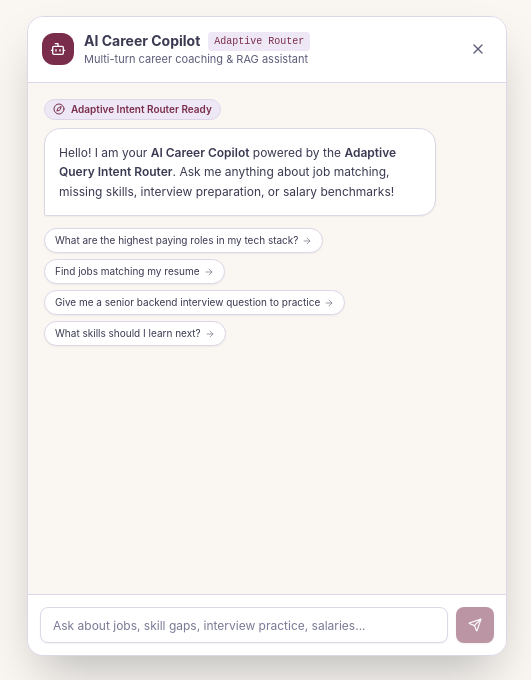
CopilotChatDrawer Component › renders collapsible execution trace panel and expands details on click
The width and height of the screenshot is (531, 680).
Type "Trace test query" into the field with placeholder "Ask about jobs, skill gaps, interview practice, salaries...".
click(244, 625); type("Trace test query")  # box [40,607,448,643]
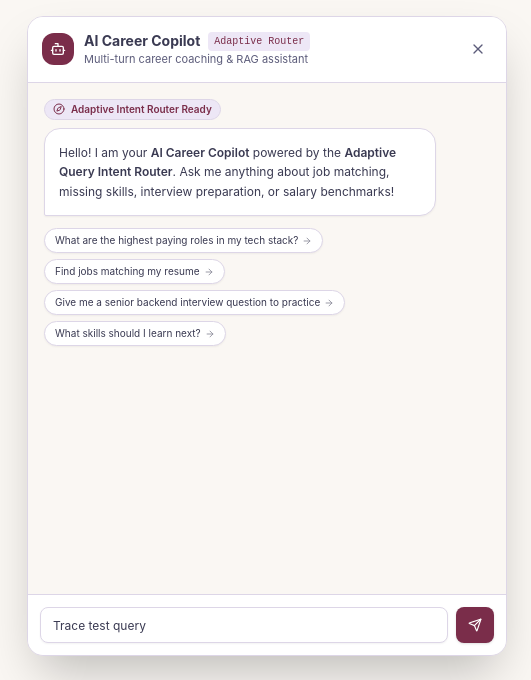
Submit the form with placeholder "ask about jobs", box [40,607,494,643]
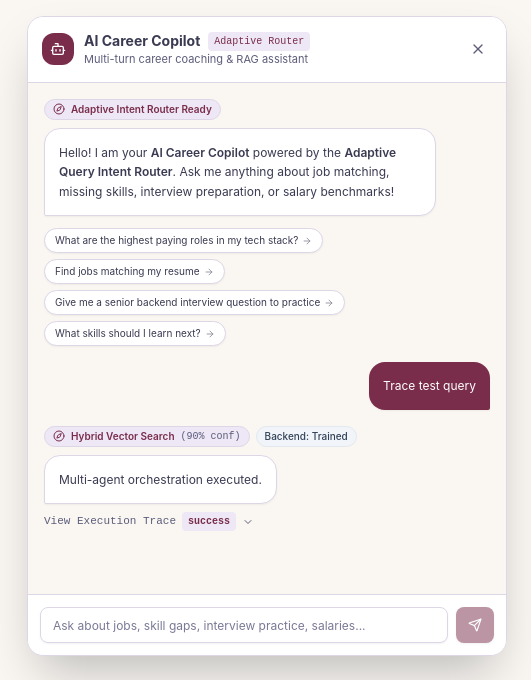
Check: the text "View Execution Trace" is shown
Click the text "View Execution Trace".
click(110, 522)  # box [44,513,176,530]
(page scrolled)
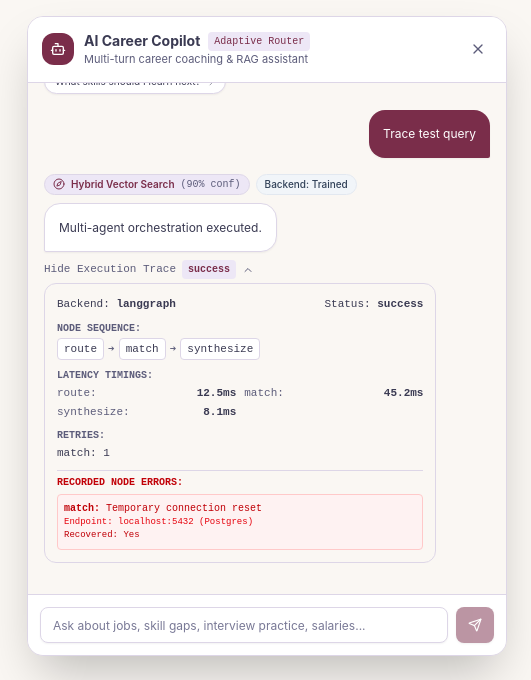
Check: the text "Node Sequence:" is shown, box [57,322,141,334]
Check: the text "match" is shown, box [119,338,166,360]
Check: the text "synthesize" is shown, box [180,338,260,360]
